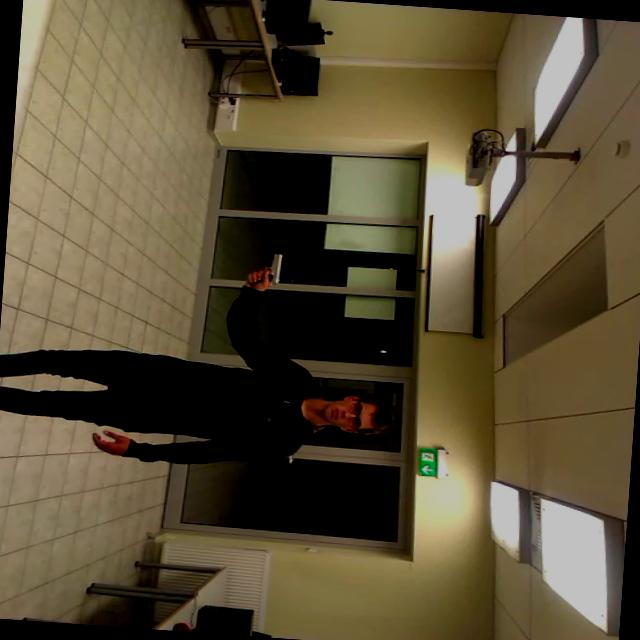handgun: (232, 246, 292, 290)
